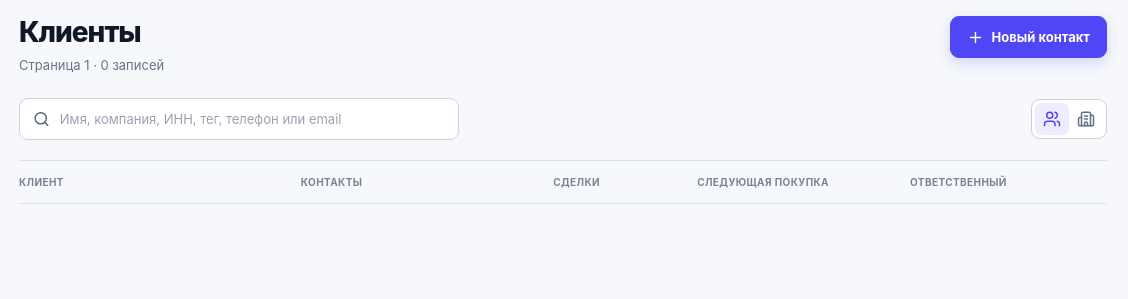
Scenario: ContactsPage linked records › keeps server-matched company search results visible for normalized phone queries
This screenshot has width=1128, height=299.
Click the button named "Компании" at (1086, 119), box [1069,103,1103,135]
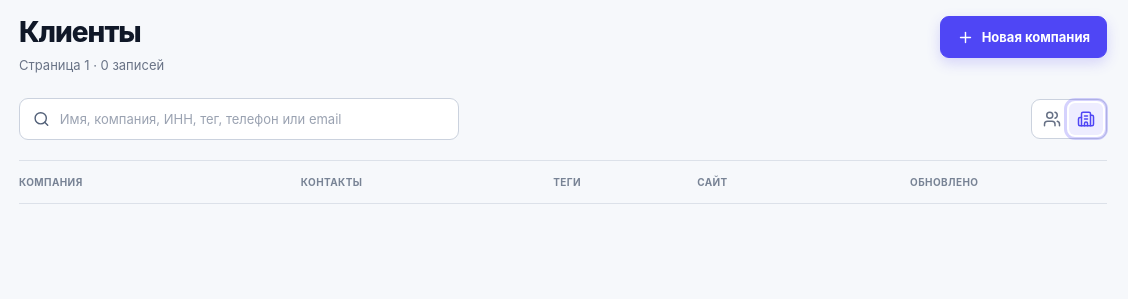
Type "70001234567" into the field with placeholder "Имя, компания, ИНН, тег, телефон или email" at (252, 119), box [60,110,445,129]
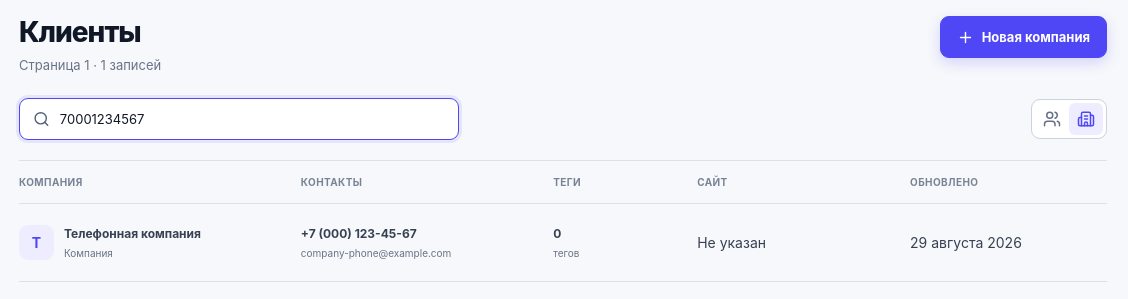
Result: the text "Телефонная компания" is shown at [64,226,201,242]
